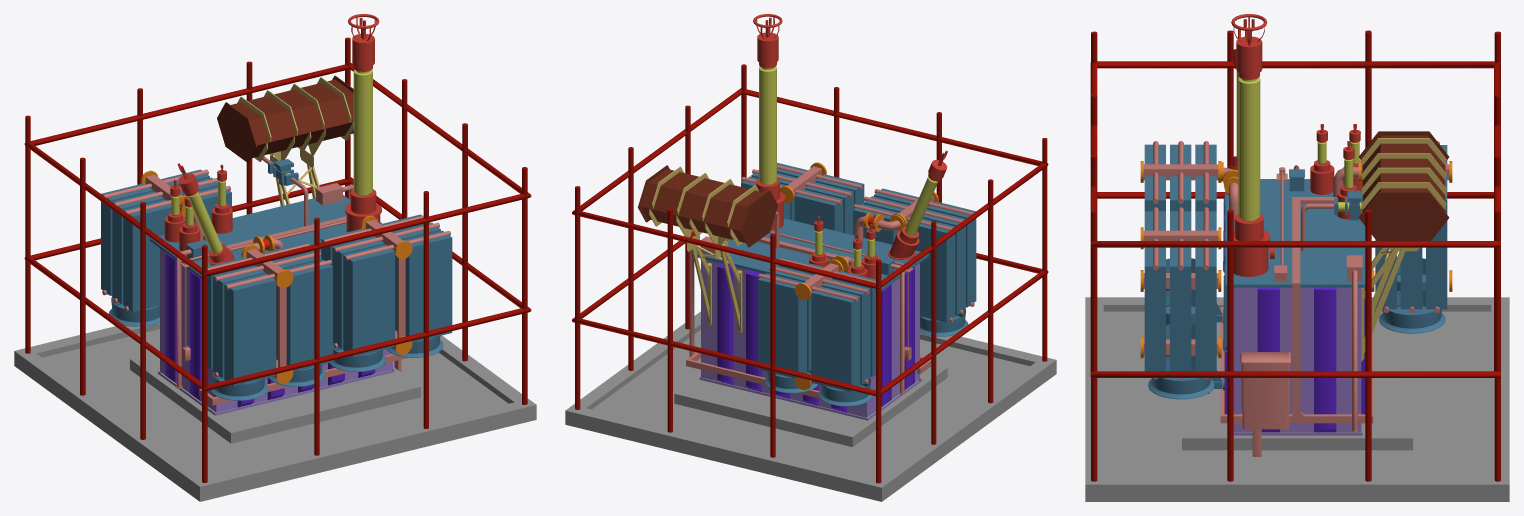
3 views of the same model, side by side, from view 1: azimuth 30°, elevation 25°; view 2: azimuth 150°, elevation 25°; view 3: azimuth 270°, elevation 25° (orthographic). The views are drawn at different scales.
Visible parts, largest first — view 1: Rectangle055, Rectangle048 (×7), Circle018 (×10), Rectangle054 (×2), Rectangle052 (×3), Object113, Rectangle050, Object111 (×3), Rectangle044 (×2), Object128, Mesh017 (×3), Object115 (+5 smaller); view 2: Rectangle055, Circle018 (×10), Rectangle052 (×5), Rectangle054 (×2), Rectangle048 (×6), Object111 (×3), Object113, Rectangle050, Object118 (×2), Rectangle044 (×2), Object128, Object121 (×2) (+7 smaller); view 3: Rectangle055, Rectangle054 (×2), Rectangle048 (×6), Circle018 (×6), Object111, Rectangle050, Object109 (×2), Object115 (×2), Object108 (×3), Rectangle052 (×3), Object128, Object114 (×5) (+8 smaller).
Boxes of the visible parts, box(x1,y1,x2,y2) form: Rectangle055: box(14, 322, 536, 501); Rectangle048 (×7): box(207, 230, 452, 386); Circle018 (×10): box(25, 61, 527, 482); Rectangle054 (×2): box(24, 63, 531, 391); Rectangle052 (×3): box(101, 183, 171, 312); Object113: box(231, 79, 353, 158); Rectangle050: box(150, 195, 382, 278); Object111 (×3): box(158, 248, 394, 415); Rectangle044 (×2): box(165, 252, 201, 401); Object128: box(353, 69, 372, 194); Mesh017 (×3): box(210, 343, 385, 400); Object115: box(217, 102, 257, 162); Rectangle055: box(565, 311, 1056, 501); Circle018 (×10): box(575, 64, 1047, 483); Rectangle052 (×5): box(758, 265, 875, 392); Rectangle054 (×2): box(572, 88, 1048, 396); Rectangle048 (×6): box(794, 182, 976, 322); Object111 (×3): box(699, 259, 921, 420); Object113: box(640, 169, 764, 242); Rectangle050: box(692, 218, 929, 290); Object118 (×2): box(717, 263, 761, 392); Rectangle044 (×2): box(881, 267, 914, 406); Object128: box(759, 66, 776, 183); Object121 (×2): box(764, 370, 872, 406); Rectangle055: box(1085, 297, 1509, 501); Rectangle054 (×2): box(1090, 61, 1500, 377); Rectangle048 (×6): box(1144, 176, 1216, 371); Circle018 (×6): box(1091, 30, 1500, 481); Object111: box(1233, 287, 1361, 432); Rectangle050: box(1225, 179, 1365, 287); Object109 (×2): box(1257, 287, 1336, 432); Object115 (×2): box(1358, 131, 1449, 240); Object108 (×3): box(1240, 351, 1290, 429); Rectangle052 (×3): box(1375, 176, 1447, 309); Object128: box(1238, 77, 1260, 219); Object114 (×5): box(1361, 138, 1446, 352).
Size of the model in its own units: 11512 by 12191 by 11008.
13 materials, 1 textured.
